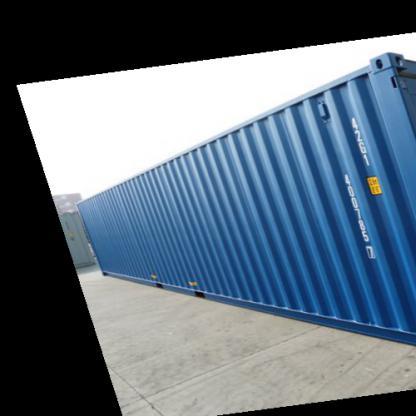Damage: (334, 73, 372, 107)
